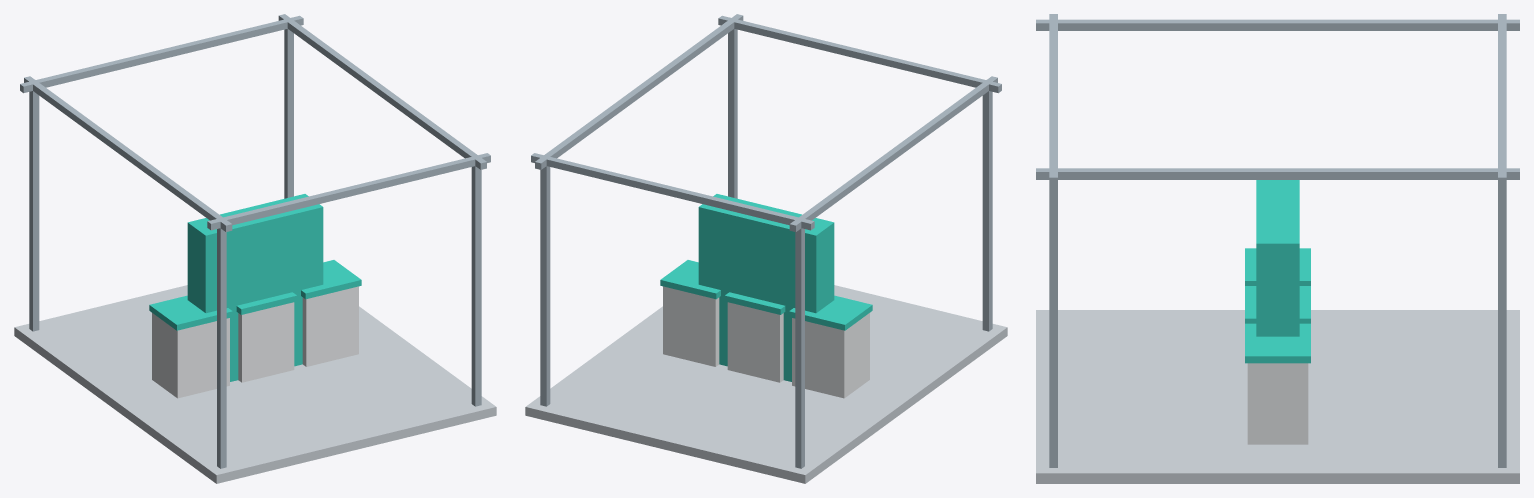
3 renders of one model, left to right at view 1: azimuth 30°, elevation 25°; view 2: azimuth 150°, elevation 25°; view 3: azimuth 270°, elevation 25°, orthographic. The views are drawn at different scales.
Parts seen in each view (by area): view 1: Exhibition Booth Concept; view 2: Exhibition Booth Concept; view 3: Exhibition Booth Concept.
Boxes of the visible parts, <box> form: Exhibition Booth Concept: <box>14,14,496,483</box>; Exhibition Booth Concept: <box>525,14,1007,483</box>; Exhibition Booth Concept: <box>1036,14,1519,483</box>.
Bounding box in the file's own units: 4 × 3.49 × 5.
